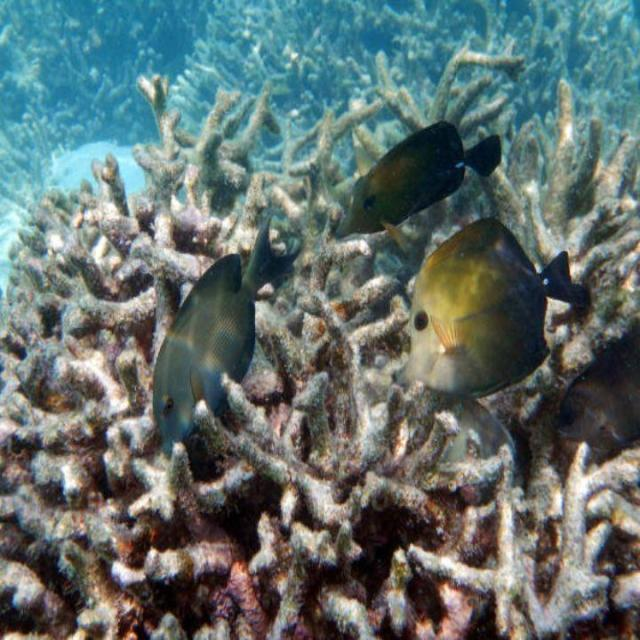Dead Coral: (37, 440, 565, 625), (29, 148, 170, 307)
